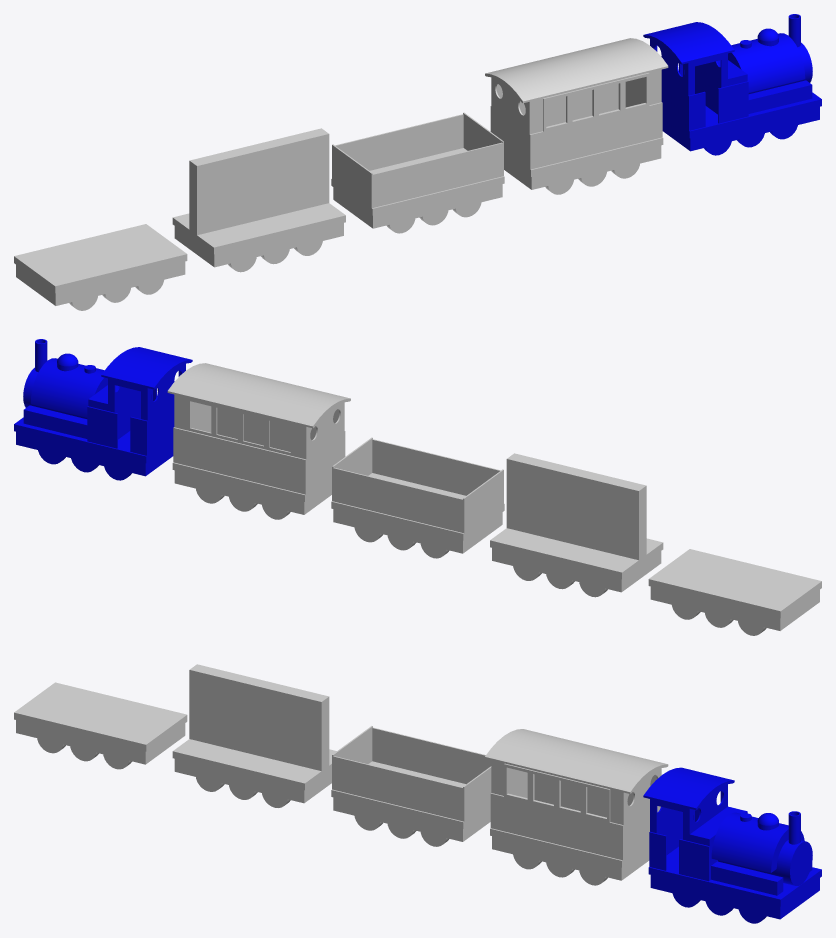
Rendered from coach.gltf.
3 views of the same model, one above another, from view 1: azimuth 30°, elevation 25°; view 2: azimuth 150°, elevation 25°; view 3: azimuth 330°, elevation 25° (orthographic).
Parts seen in each view (by area): view 1: Train v5.004, Train v5.010, Train v5.002, Train v5.008, Train v5.011; view 2: Train v5.004, Train v5.010, Train v5.002, Train v5.008, Train v5.011; view 3: Train v5.004, Train v5.002, Train v5.010, Train v5.008, Train v5.011.
Part boxes in pixels (<box>): Train v5.004: <box>485,38,668,194</box>; Train v5.010: <box>172,128,345,272</box>; Train v5.002: <box>643,14,821,155</box>; Train v5.008: <box>331,112,504,233</box>; Train v5.011: <box>14,224,187,310</box>; Train v5.004: <box>167,363,350,519</box>; Train v5.010: <box>490,453,663,597</box>; Train v5.002: <box>14,339,192,480</box>; Train v5.008: <box>331,437,504,558</box>; Train v5.011: <box>648,549,821,635</box>; Train v5.004: <box>485,729,668,885</box>; Train v5.002: <box>643,767,821,923</box>; Train v5.010: <box>172,664,336,807</box>; Train v5.008: <box>331,726,491,846</box>; Train v5.011: <box>14,682,187,769</box>.
Bounding box in the file's own units: 58 × 8 × 5.4.
2 materials, 1 textured.
